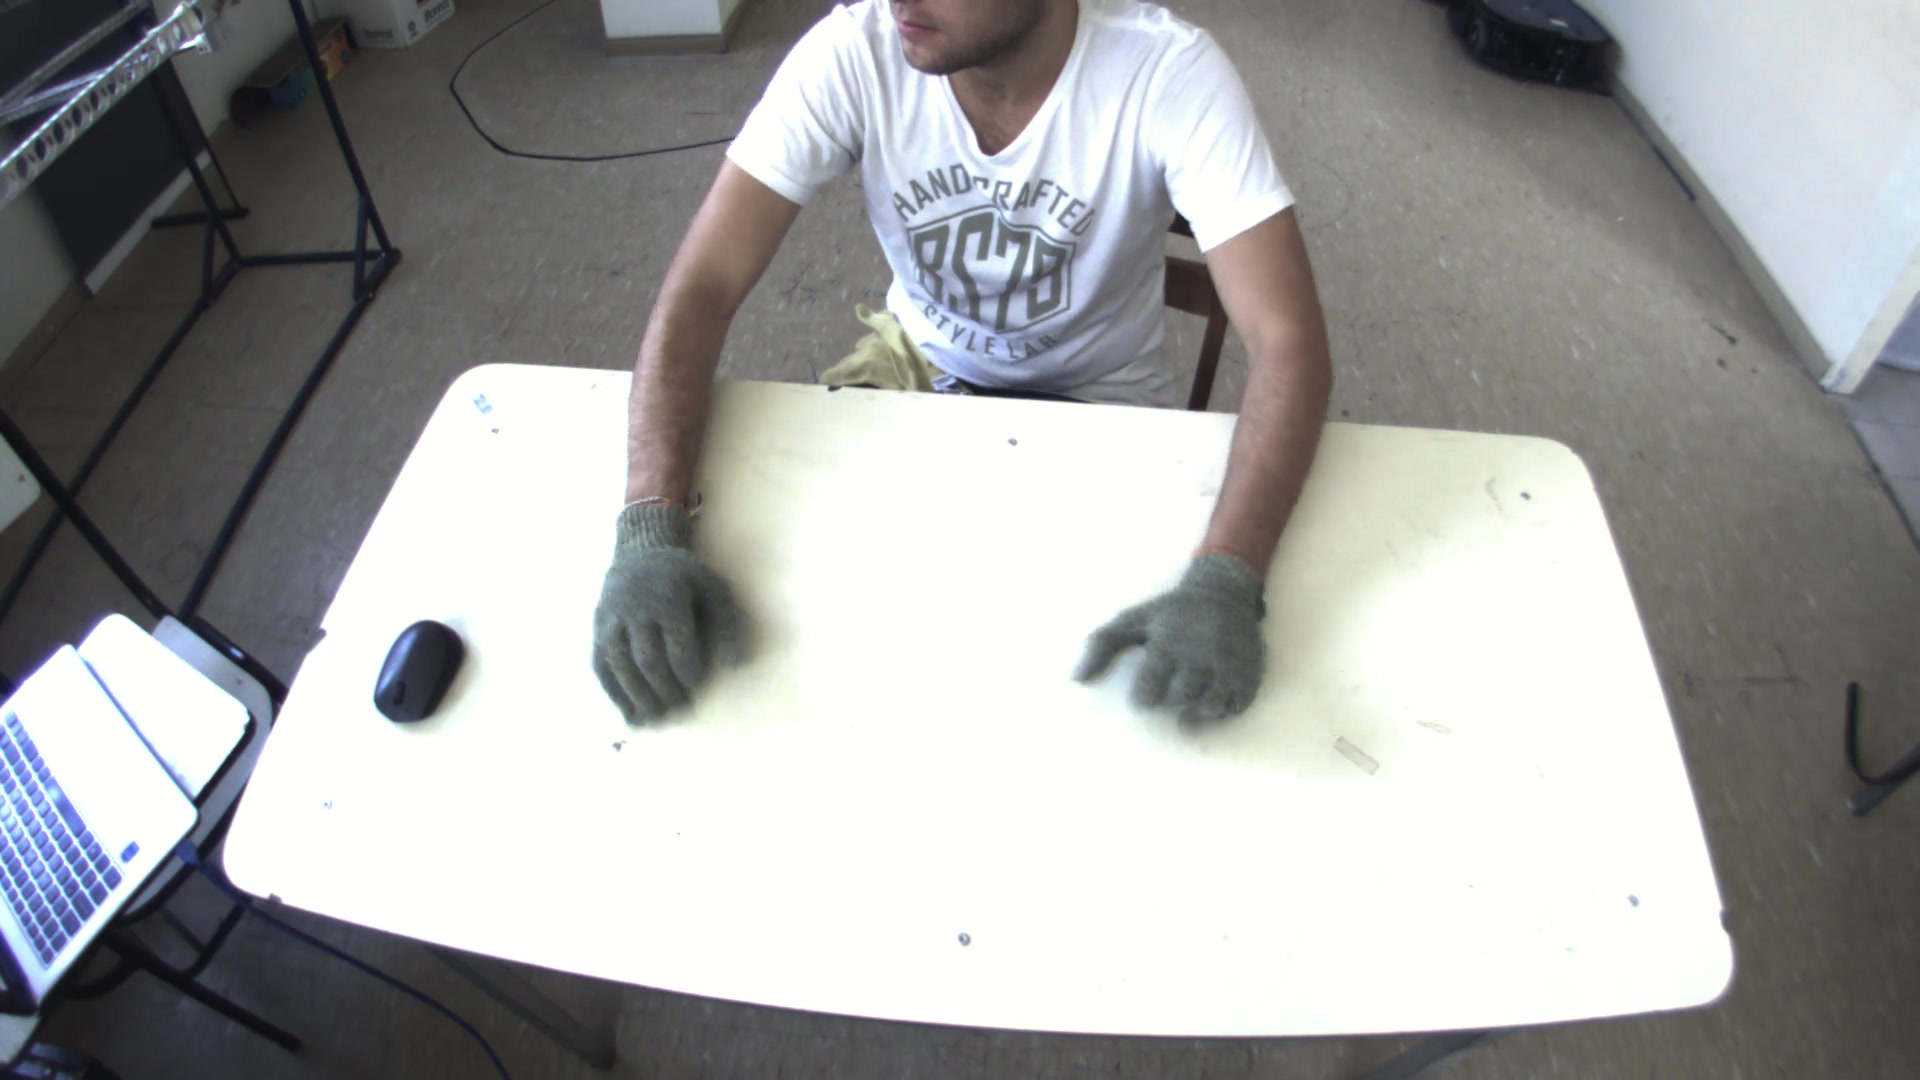hand: (574, 488, 745, 731), (1068, 550, 1284, 724)
